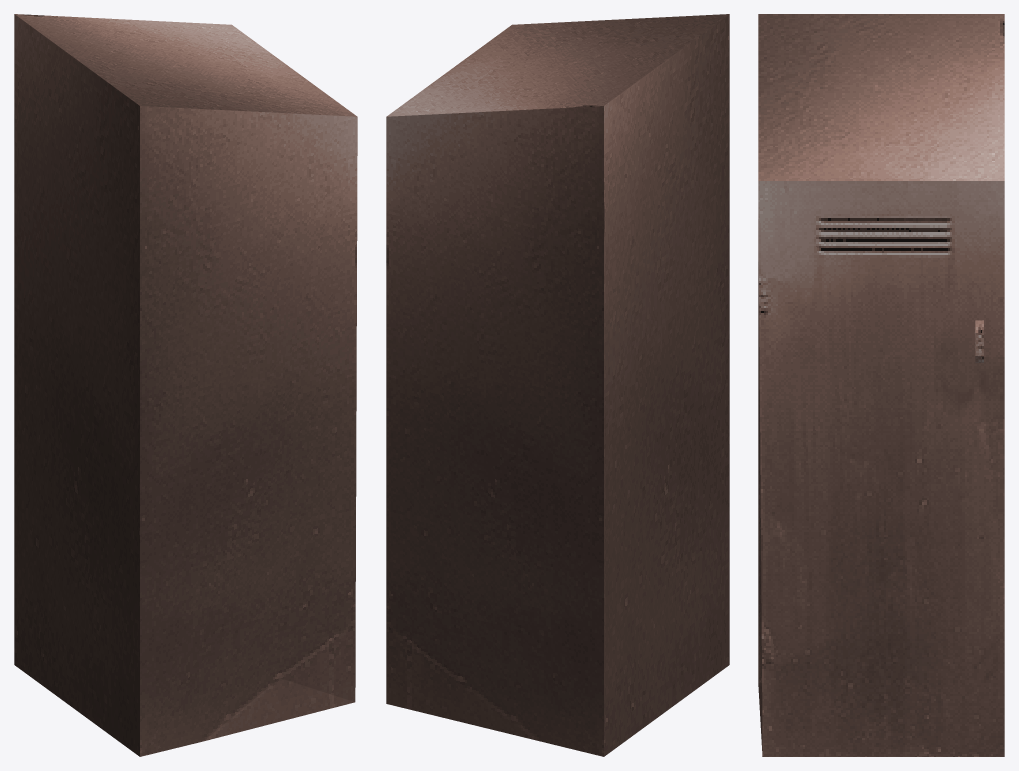
Rendered from retro_locker.glb.
3 renders of one model, left to right at view 1: azimuth 30°, elevation 25°; view 2: azimuth 150°, elevation 25°; view 3: azimuth 270°, elevation 25°, orthographic.
Parts seen in each view (by area): view 1: Cube; view 2: Cube; view 3: Cube.
Boxes of the visible parts, x1,y1,x2,y2 form: Cube: (14,14,357,756); Cube: (386,14,729,756); Cube: (758,14,1004,756).
Size of the model in its own units: 0.6844 by 1.9 by 0.6648.
Materials: 1 (1 with a texture image).
